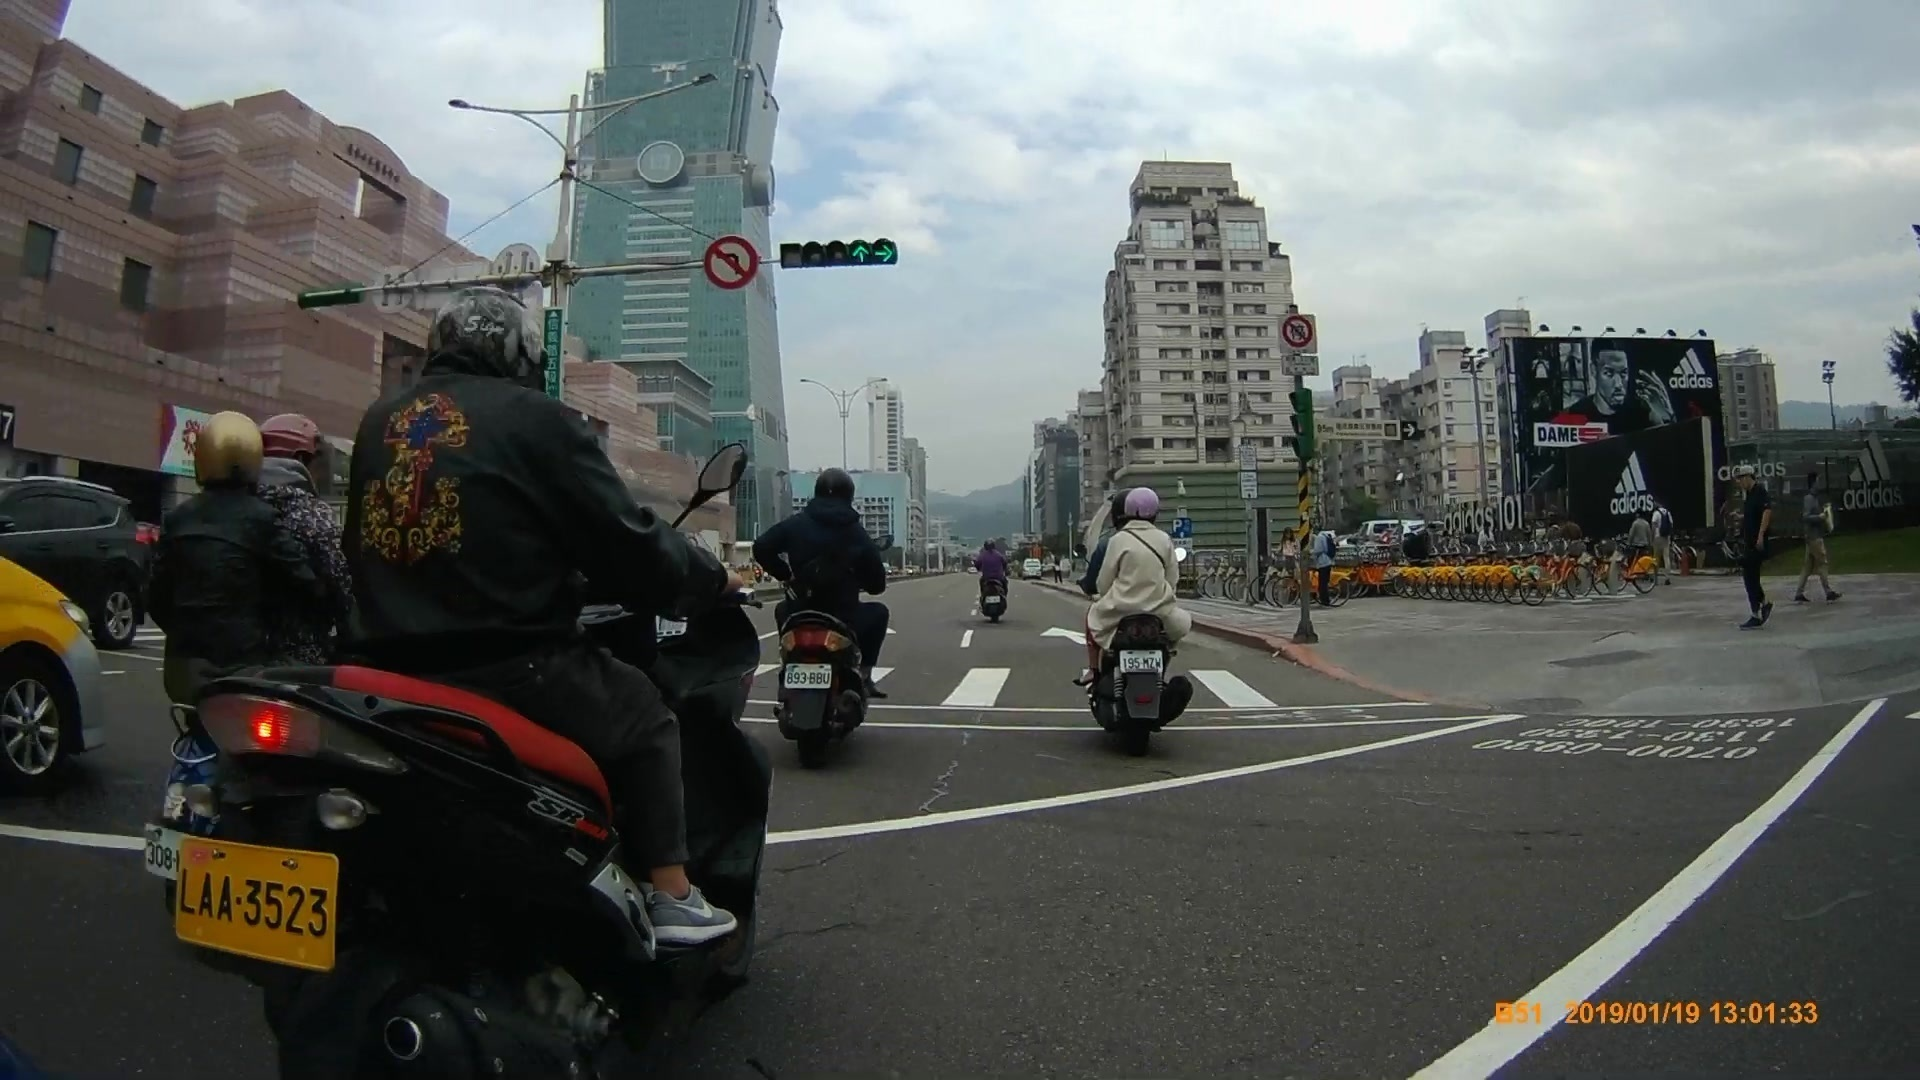License_plate: (177, 834, 341, 970), (781, 657, 836, 692), (1118, 644, 1168, 675)
